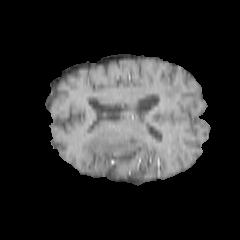glioma: (87, 137, 142, 166)
